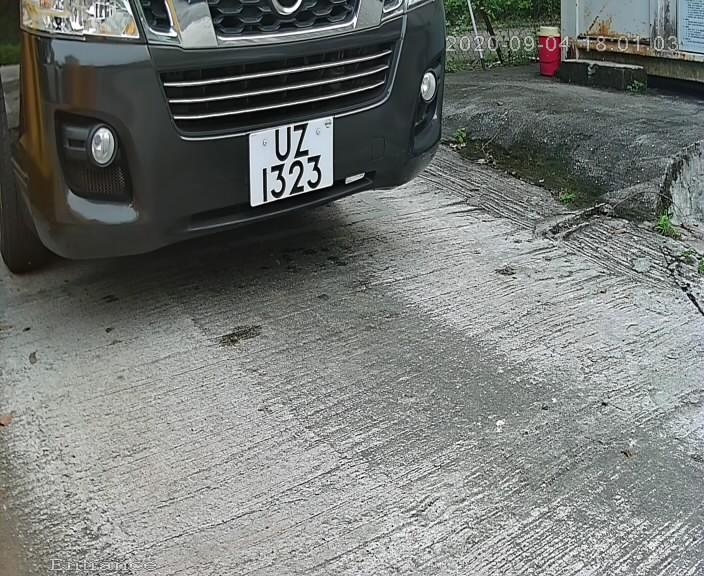Car: (23, 1, 488, 317)
License Plate: (239, 114, 340, 209)
